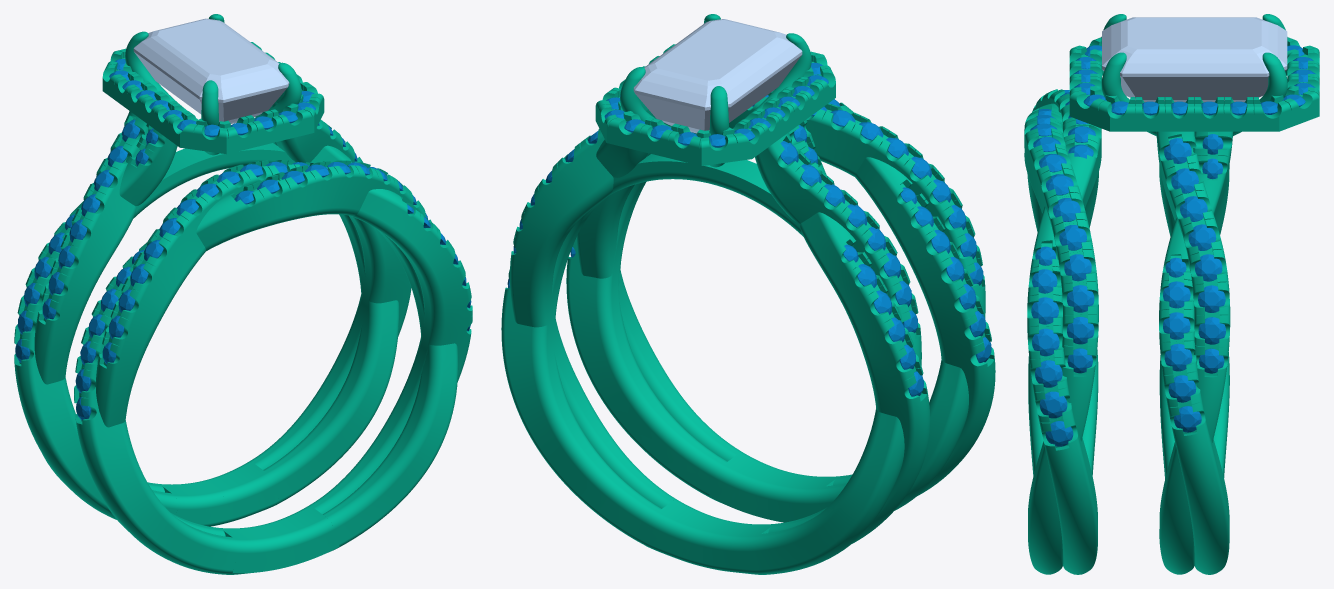
The picture shows the model from 3 angles, left to right: view 1: azimuth 30°, elevation 25°; view 2: azimuth 150°, elevation 25°; view 3: azimuth 270°, elevation 25°; orthographic projection. The views are drawn at different scales.
Visible parts, largest first — view 1: VR124 001(front).3dm, Diamond_Emerald; view 2: VR124 001(front).3dm, Diamond_Emerald; view 3: VR124 001(front).3dm, Diamond_Round (×26), Diamond_Emerald.
Part boxes in pixels (box(x1,y1,x2,y2)): VR124 001(front).3dm: box(14, 14, 472, 574); Diamond_Emerald: box(133, 18, 289, 123); VR124 001(front).3dm: box(501, 14, 995, 574); Diamond_Emerald: box(633, 19, 802, 133); VR124 001(front).3dm: box(1024, 14, 1319, 574); Diamond_Round (×26): box(1031, 138, 1225, 446); Diamond_Emerald: box(1102, 17, 1287, 102).
Bounding box in the file's own units: 2.43 × 2.82 × 1.46.
